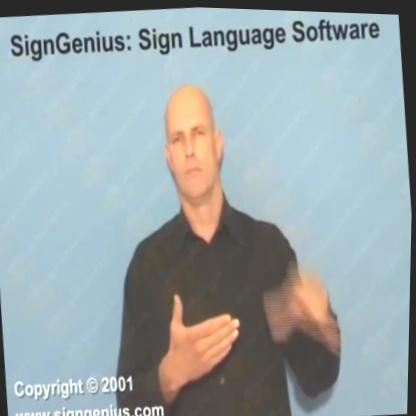Expensive: (161, 250, 347, 399)
